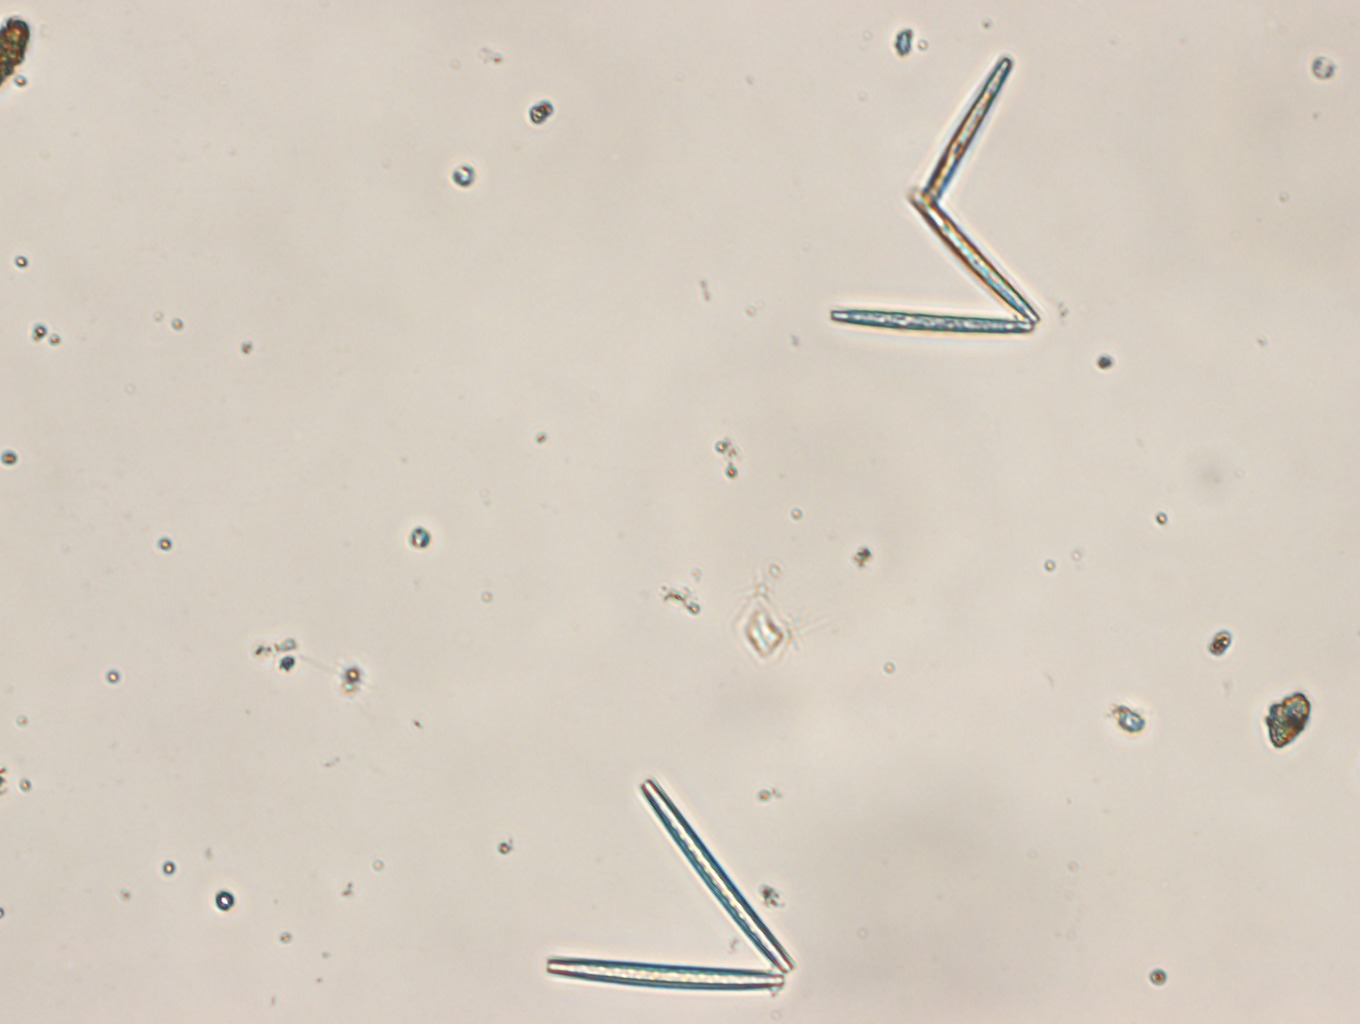thalassionema nitzschioides: (828, 59, 1039, 335), (546, 776, 793, 991)
